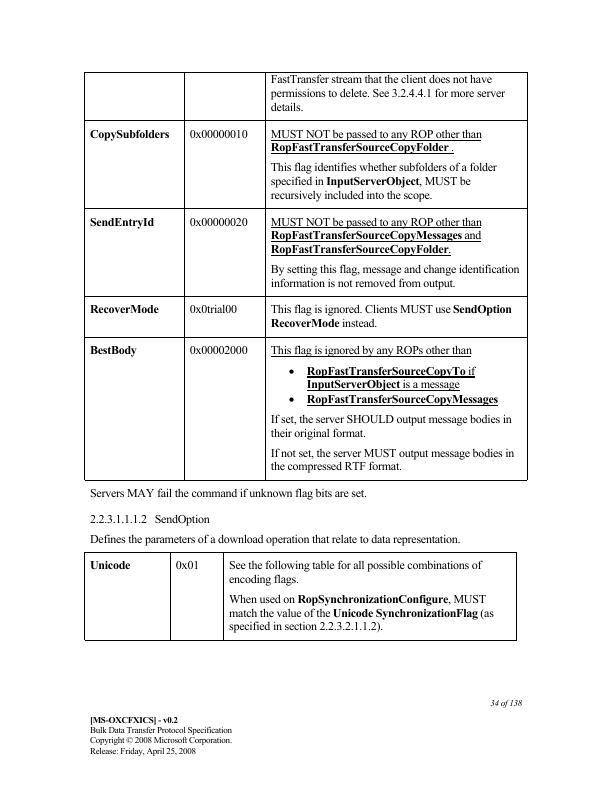table: (81, 67, 531, 485), (81, 550, 521, 645)
text: (85, 712, 233, 757), (87, 532, 462, 546), (86, 487, 369, 502), (87, 511, 211, 527), (487, 694, 526, 711)
